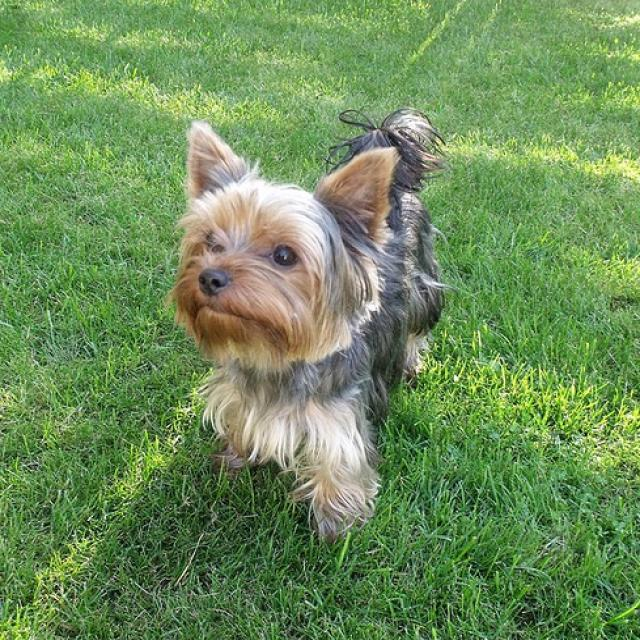dog-yorkshire_terrier: (164, 95, 455, 550)
